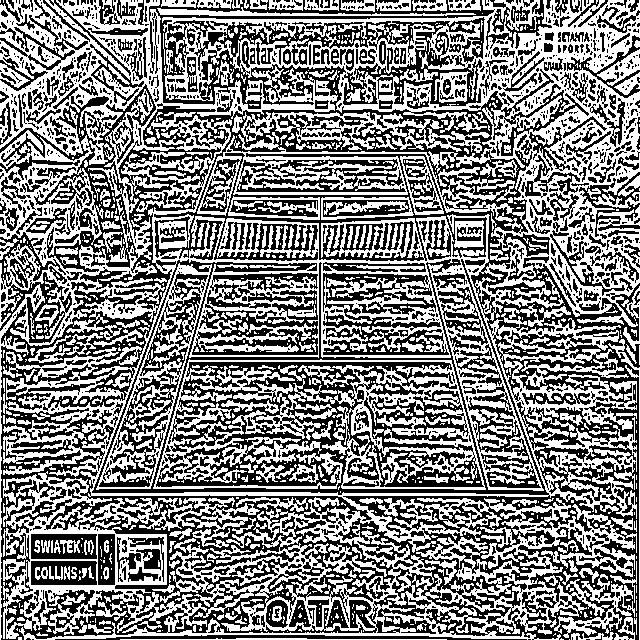left side: (92, 153, 243, 492), (398, 153, 547, 493)
player: (334, 384, 391, 496), (221, 101, 251, 158)
